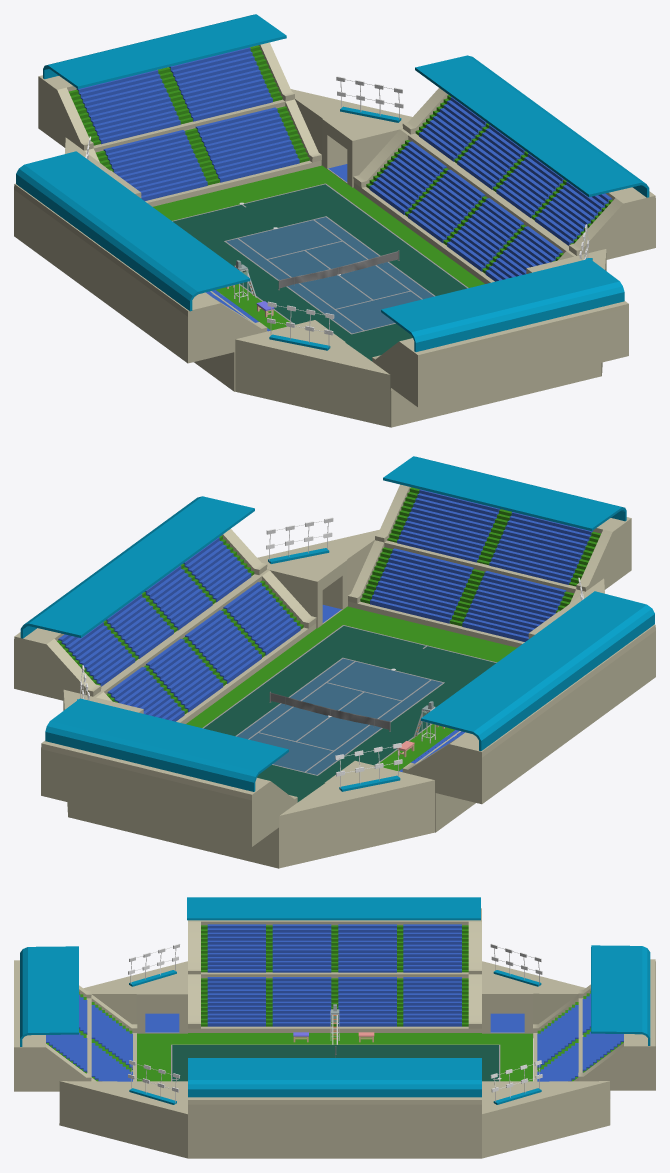
Rendered from tennis1.glb.
3 renders of one model, top to bottom at view 1: azimuth 30°, elevation 25°; view 2: azimuth 150°, elevation 25°; view 3: azimuth 270°, elevation 25°, orthographic. The views are drawn at different scales.
Parts seen in each view (by area): view 1: Tenis_KORT_001.001, Box012.002, Box008.001, Box010.001, Box015.001, Box011, Box012.001, Box014.001, Box001, Box006, Line008, Line007.001 (+21 smaller); view 2: Tenis_KORT_001.001, Box012.002, Box003.001, Box010.001, Box014.001, Box009, Box012.001, Box015.001, Box001, Box007, Line021, Line022.001 (+20 smaller); view 3: Box005.001, Box012.001, Box007, Box006, Box012.002, Box001, Tenis_KORT_001.001, Box014.001, Box015.001, Box010, Box005, Box009 (+24 smaller).
Boxes of the visible parts, x1=… form: Tenis_KORT_001.001: x1=172, y1=183, x2=468, y2=361; Box012.002: x1=16, y1=151, x2=250, y2=311; Box008.001: x1=372, y1=301, x2=628, y2=407; Box010.001: x1=14, y1=183, x2=267, y2=363; Box015.001: x1=381, y1=258, x2=624, y2=351; Box011: x1=235, y1=320, x2=391, y2=427; Box012.001: x1=415, y1=55, x2=649, y2=197; Box014.001: x1=43, y1=14, x2=286, y2=88; Box001: x1=153, y1=165, x2=484, y2=330; Box006: x1=291, y1=89, x2=412, y2=187; Line008: x1=195, y1=107, x2=299, y2=182; Line007.001: x1=76, y1=70, x2=180, y2=144; Tenis_KORT_001.001: x1=202, y1=625, x2=496, y2=802; Box012.002: x1=420, y1=591, x2=654, y2=750; Box003.001: x1=41, y1=741, x2=297, y2=846; Box010.001: x1=402, y1=624, x2=655, y2=804; Box014.001: x1=45, y1=698, x2=288, y2=791; Box009: x1=279, y1=760, x2=434, y2=868; Box012.001: x1=20, y1=496, x2=254, y2=638; Box015.001: x1=383, y1=456, x2=626, y2=531; Box001: x1=186, y1=606, x2=516, y2=770; Box007: x1=257, y1=529, x2=379, y2=628; Line021: x1=370, y1=548, x2=473, y2=623; Line022.001: x1=489, y1=512, x2=593, y2=584; Box005.001: x1=188, y1=1097, x2=481, y2=1144; Box012.001: x1=188, y1=1058, x2=481, y2=1097; Box007: x1=59, y1=1081, x2=187, y2=1158; Box006: x1=482, y1=1081, x2=610, y2=1158; Box012.002: x1=187, y1=897, x2=480, y2=920; Box001: x1=137, y1=1033, x2=532, y2=1081; Tenis_KORT_001.001: x1=171, y1=1044, x2=500, y2=1081; Box014.001: x1=591, y1=945, x2=650, y2=1045; Box015.001: x1=20, y1=946, x2=78, y2=1046; Box010: x1=188, y1=972, x2=481, y2=1032; Box005: x1=188, y1=1144, x2=481, y2=1158; Box009: x1=482, y1=961, x2=585, y2=1037.
Bounding box in the file's own units: 12.25 × 2.77 × 17.21.
